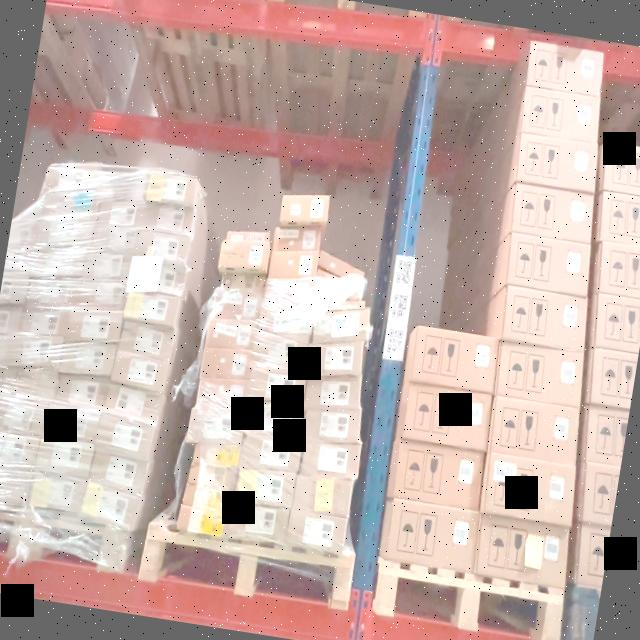box: (384, 499, 481, 574), (481, 451, 577, 526), (473, 515, 570, 588), (392, 438, 486, 511), (487, 396, 581, 468), (399, 380, 494, 450), (408, 323, 501, 394), (494, 341, 585, 409), (500, 283, 588, 351), (505, 231, 592, 299), (510, 183, 594, 246), (514, 131, 598, 193), (521, 86, 601, 144), (526, 41, 604, 100), (226, 502, 291, 547), (285, 511, 348, 557), (239, 432, 303, 476), (81, 481, 140, 528), (233, 469, 297, 511), (292, 477, 353, 521), (95, 414, 153, 459), (184, 404, 246, 446), (299, 442, 362, 483), (103, 386, 164, 426), (111, 351, 168, 393), (303, 406, 362, 446), (35, 439, 94, 479), (248, 367, 309, 405), (30, 474, 86, 515), (245, 398, 306, 435), (89, 456, 148, 493), (307, 341, 364, 379), (311, 309, 371, 345), (304, 377, 362, 414), (257, 303, 312, 342), (120, 321, 175, 360), (44, 405, 100, 443), (251, 338, 309, 374), (59, 342, 117, 376), (26, 246, 85, 279), (10, 335, 64, 371), (124, 292, 179, 327), (67, 310, 122, 345), (0, 398, 49, 437), (209, 286, 263, 321), (133, 259, 185, 295), (175, 505, 230, 539), (198, 347, 252, 381), (204, 319, 258, 352), (196, 379, 250, 412), (0, 434, 40, 477), (218, 239, 270, 272), (26, 280, 82, 310), (142, 205, 195, 236), (56, 379, 110, 409), (38, 216, 98, 243), (180, 483, 232, 514), (191, 439, 241, 471), (4, 369, 56, 399), (147, 171, 196, 202), (138, 231, 190, 259), (271, 224, 321, 253), (268, 250, 321, 277), (314, 275, 365, 302), (280, 195, 332, 221), (96, 202, 146, 229), (20, 310, 69, 337), (186, 464, 235, 490), (44, 190, 97, 214), (83, 256, 130, 283), (267, 280, 322, 303), (47, 168, 106, 189), (77, 286, 126, 311), (89, 230, 141, 253), (318, 251, 365, 276), (218, 272, 266, 296), (0, 474, 31, 510), (226, 231, 270, 243)
